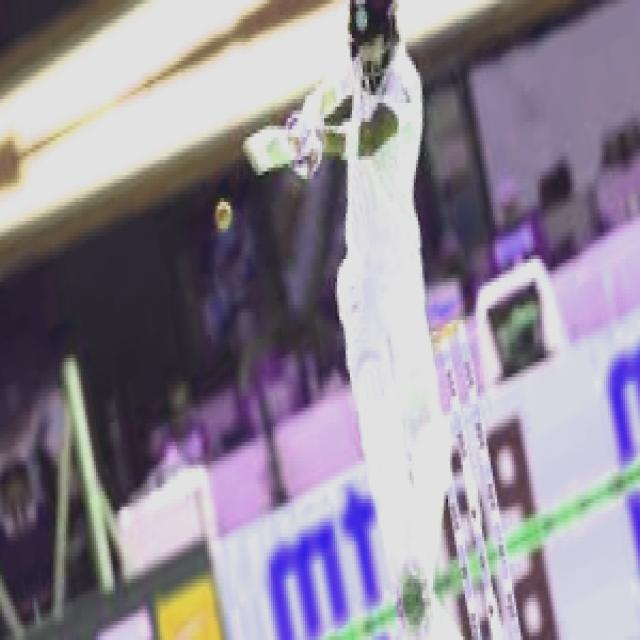toe: (240, 135, 267, 174)
